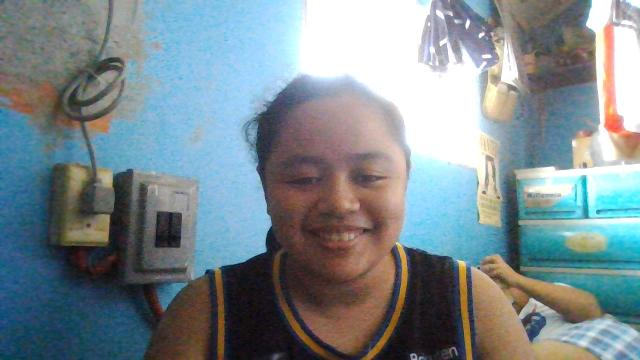senang: (264, 97, 408, 278)
